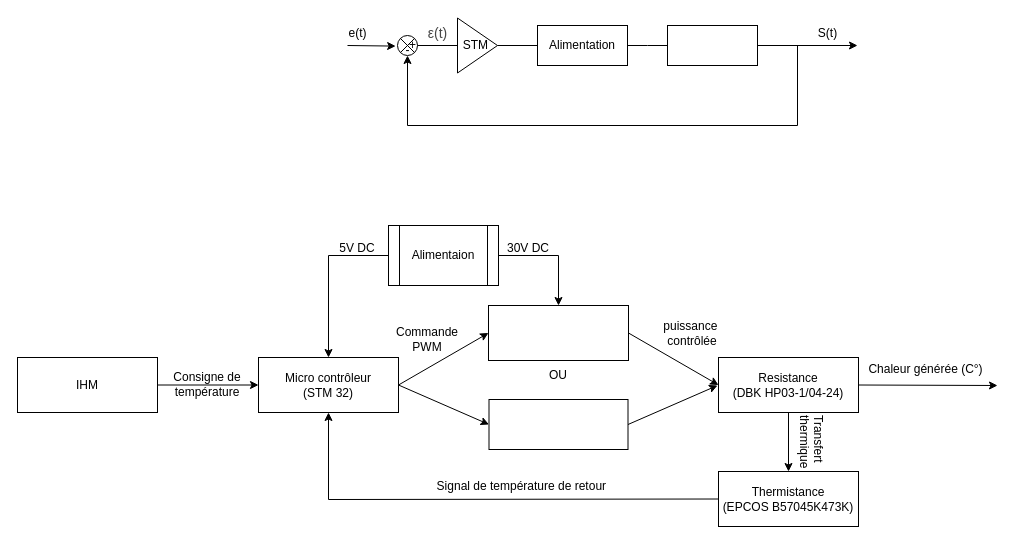
The diagram is 1023 pixels wide and 544 high, and some of its shapes have lost their labels. The centre of each missing label's shape, as x and y in pixels:
"Pilote de la puissance (Hacheur)" belongs at (x=558, y=332).
"Thermistance" belongs at (x=712, y=45).
"Transistor(système ON/OFF)" belongs at (x=558, y=424).
